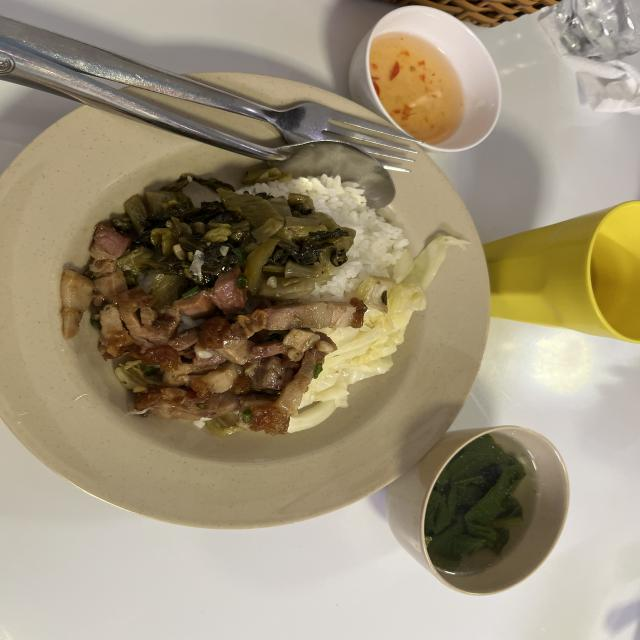bap cai xao: (288, 238, 469, 432)
com: (250, 175, 409, 300)
nuoc mam: (370, 33, 464, 145)
